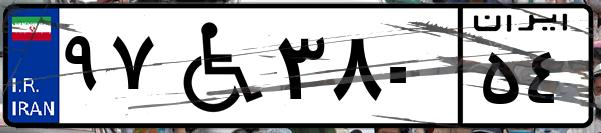0: (385, 28, 445, 110)
3: (270, 28, 330, 110)
4: (525, 38, 570, 115)
5: (475, 38, 525, 113)
7: (110, 28, 158, 98)
8: (330, 28, 385, 110)
9: (57, 26, 110, 100)
ژ (معلولین و جانبازان): (158, 12, 270, 120)
